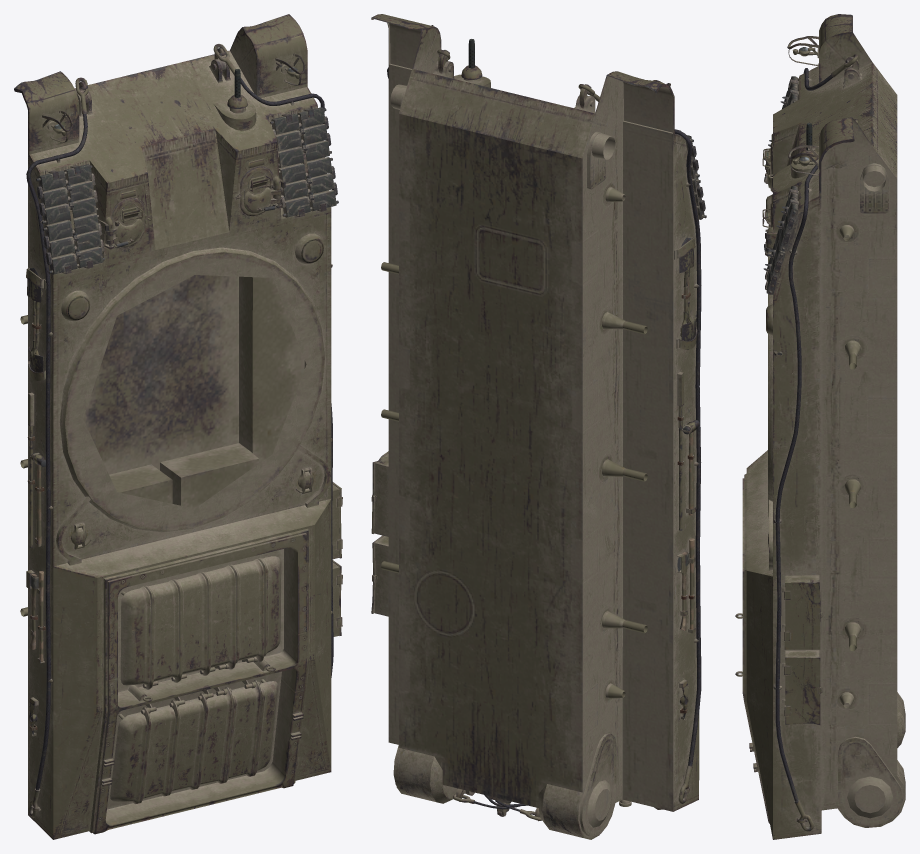
File: Hull.glb
The picture shows the model from 3 angles, left to right: view 1: azimuth 30°, elevation 25°; view 2: azimuth 150°, elevation 25°; view 3: azimuth 270°, elevation 25°; orthographic projection. The views are drawn at different scales.
Parts seen in each view (by area): view 1: set_0_group_0; view 2: set_0_group_0; view 3: set_0_group_0.
Boxes of the visible parts, x1,y1,x2,y2 form: set_0_group_0: (14,14,342,839); set_0_group_0: (371,14,706,839); set_0_group_0: (735,14,905,839).
Size of the model in its own units: 3.24 by 7.49 by 1.63.
1 material, 1 textured.
